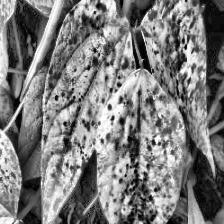Bean Rust: (37, 0, 138, 224), (89, 71, 200, 224), (141, 0, 219, 172), (0, 0, 15, 110)
